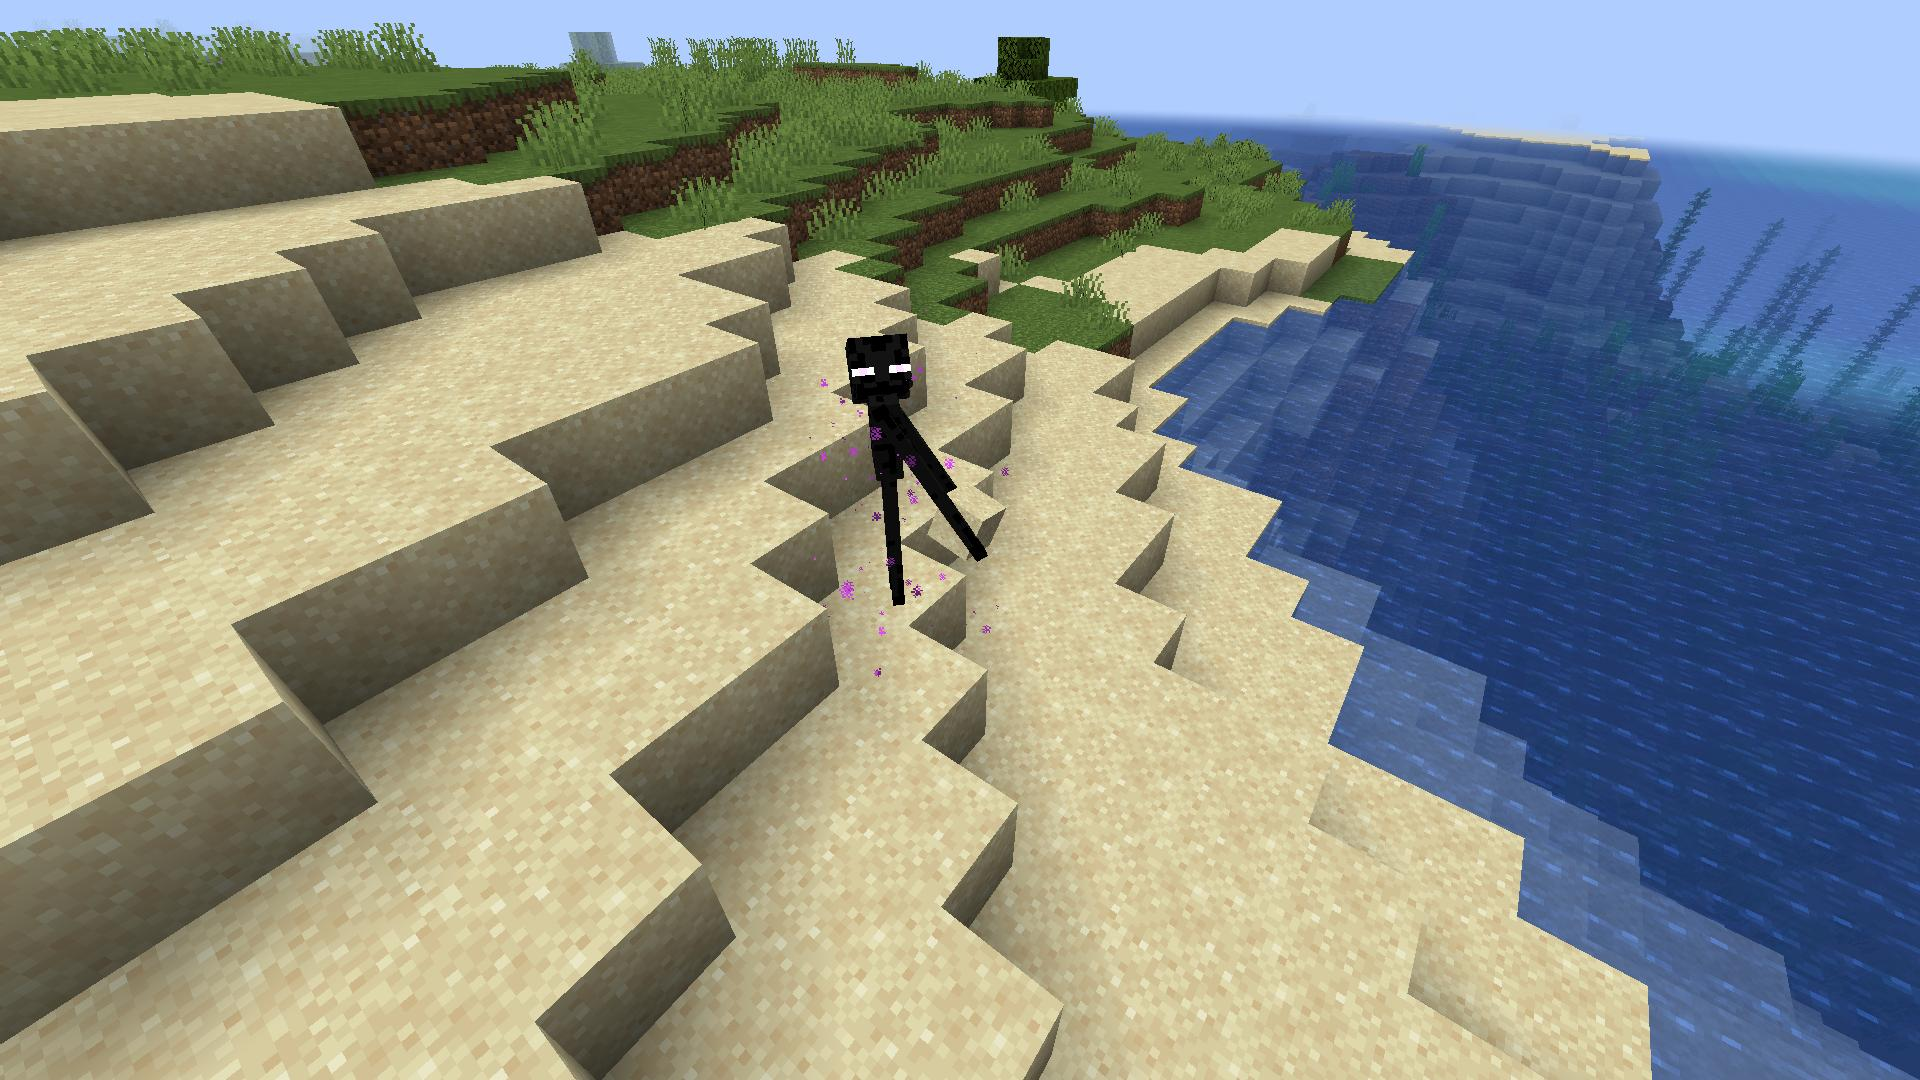enderman: (844, 322, 996, 616)
